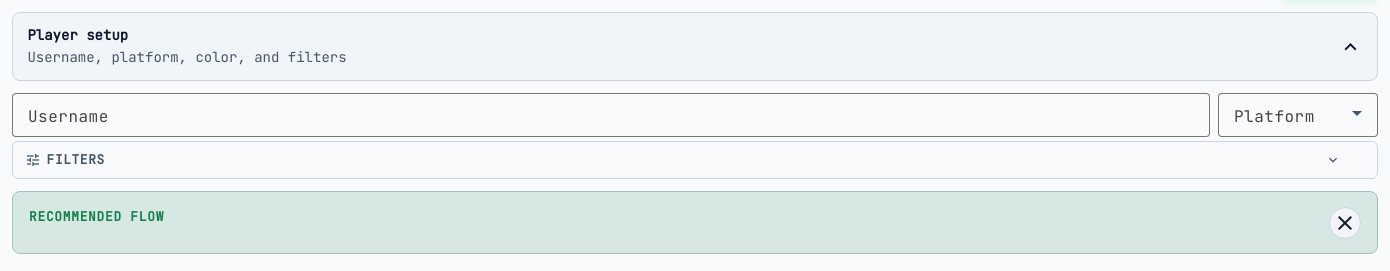
Test: GameFetchPanelComponent › should hide helper content and persist the preference
(page scrolled)
Click the button with class "fetch-panel__guide-dismiss".
click(1345, 223)  # box top-left (1329, 207), bottom-right (1361, 239)
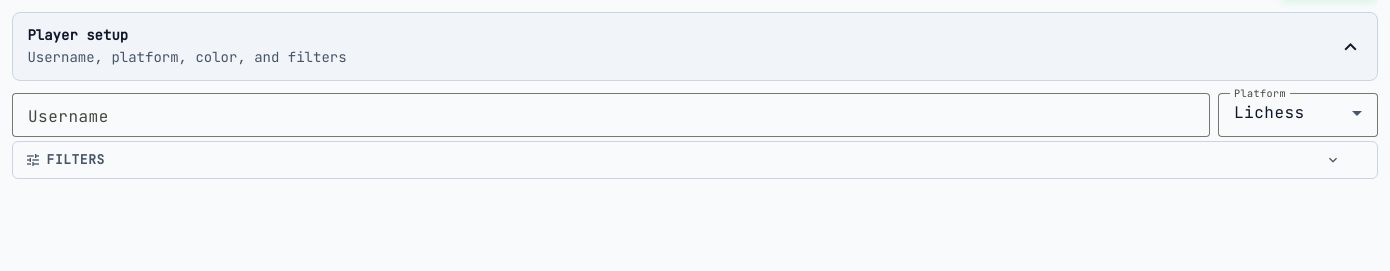
Expected: the element with class "fetch-panel__guide" is gone
